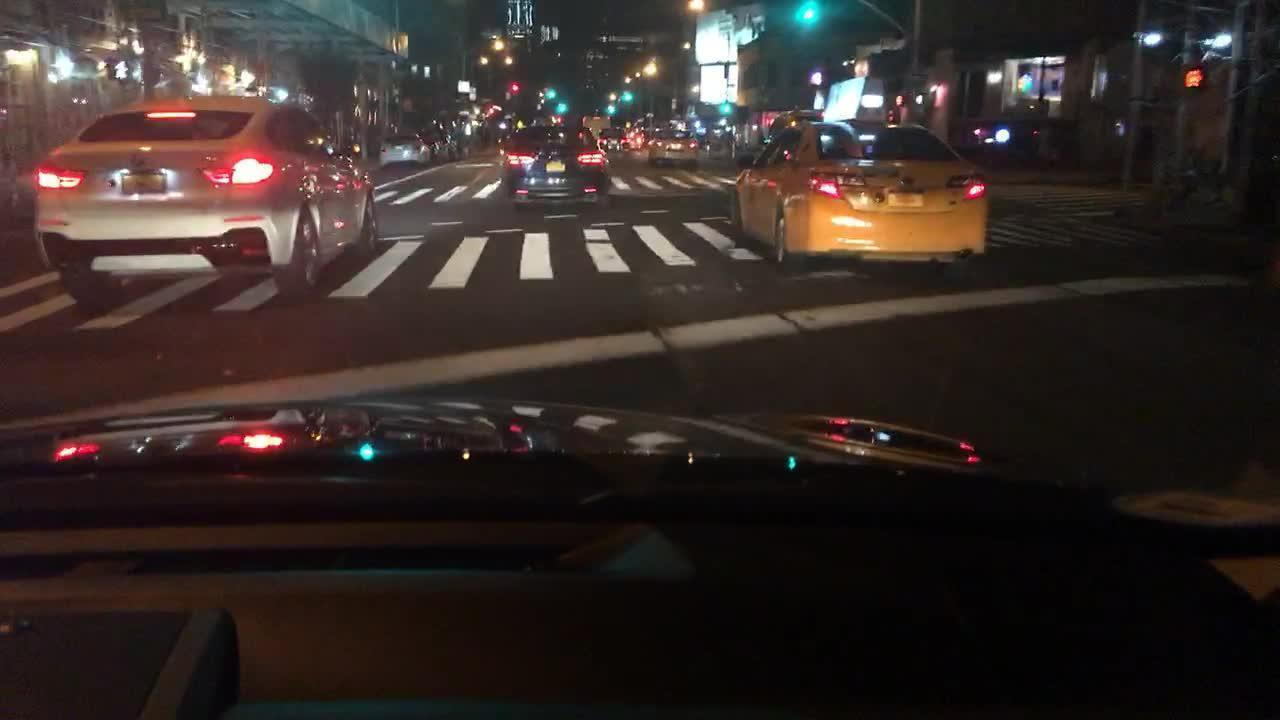bmw: (126, 150, 157, 181)
